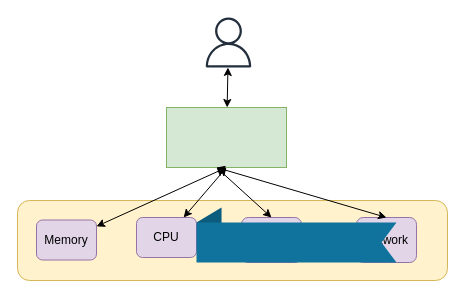
Some shapes in this 465 by 298 pixel diagram are drawn without their labels. The shapes that lost their labels are listed below. From the top down, each one's centre as x and y in pixels, then its label:
the point at 226,137: Operating System
the point at 296,234: Label
